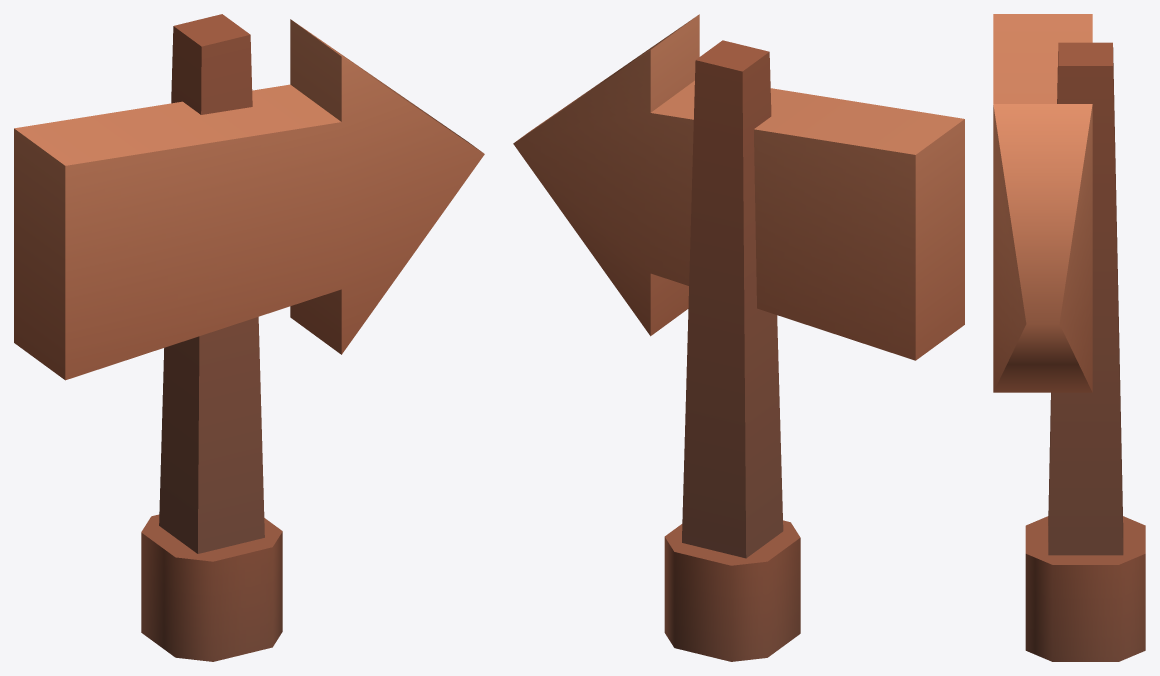
File: arrow.fbx
The picture shows the model from 3 angles, left to right: view 1: azimuth 30°, elevation 25°; view 2: azimuth 150°, elevation 25°; view 3: azimuth 270°, elevation 25°; orthographic projection. The views are drawn at different scales.
Visible parts, largest first — view 1: arrow; view 2: arrow; view 3: arrow.
Boxes of the visible parts, box(x1,y1,x2,y2) form: arrow: box(14, 14, 484, 661); arrow: box(513, 14, 964, 661); arrow: box(993, 14, 1145, 661).
Bounding box in the file's own units: 45.57 × 60 × 14.23.
